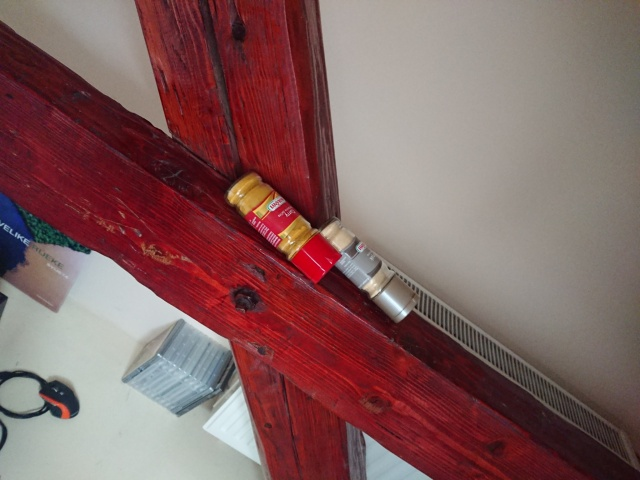Kotanyi Curry Spices Mix 70g: (222, 168, 345, 287)
Kotanyi Garlic Granules 70g: (311, 213, 423, 326)
